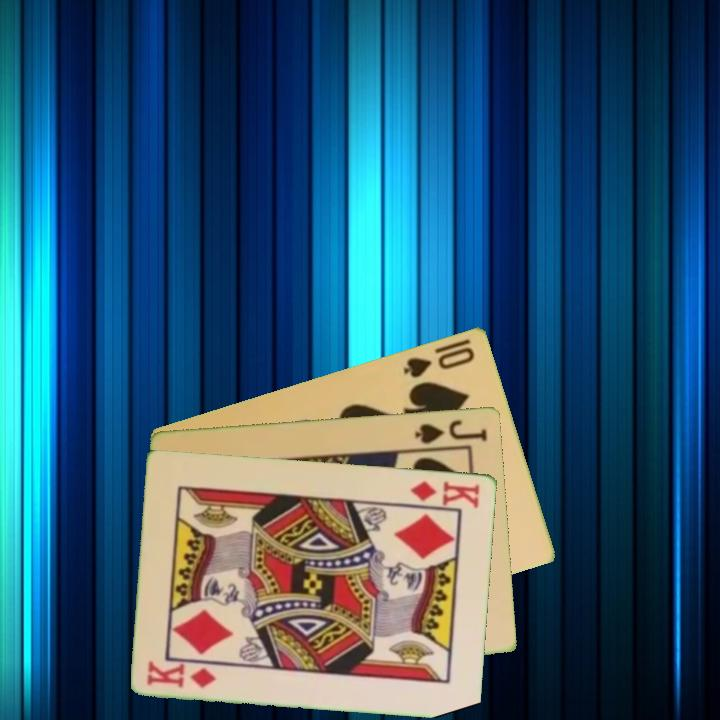10s: (400, 342, 478, 380)
Js: (411, 416, 491, 447)
Kd: (408, 476, 483, 511), (144, 658, 220, 690)
